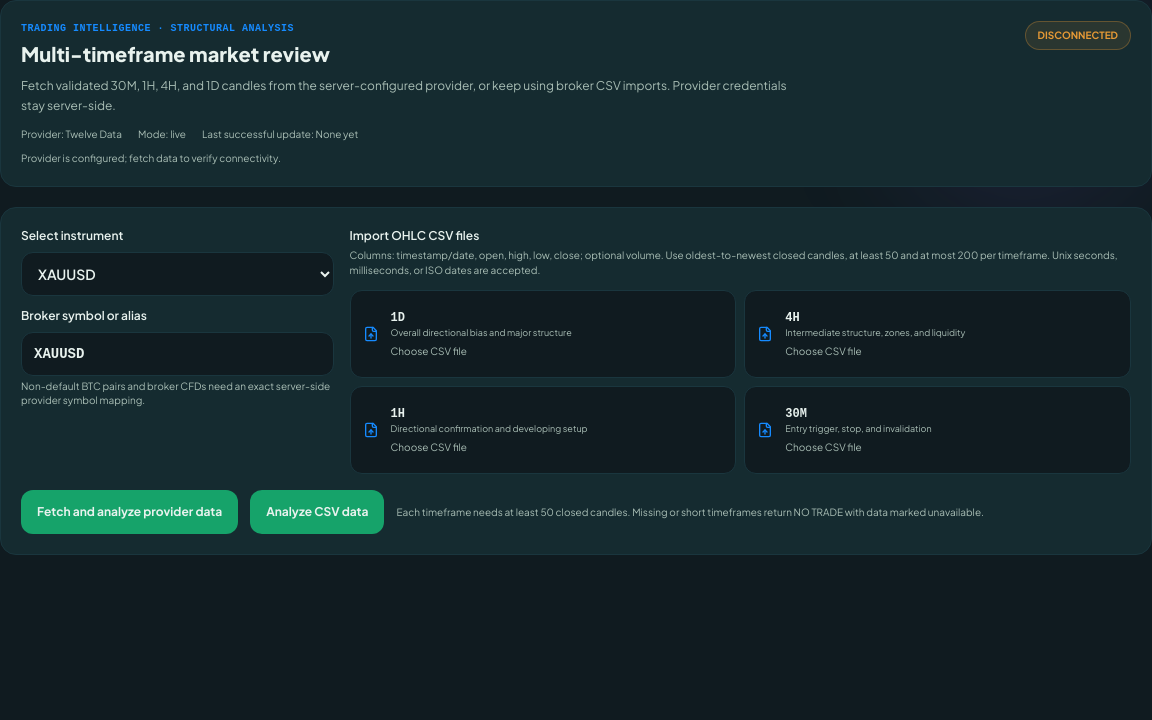
Scenario: TradingPage › uses the protected provider-analysis request and displays real source metadata
The image size is (1152, 720).
Click the button with test id "button-analyze-provider": (130, 512) [21, 490, 238, 534]
(page scrolled)
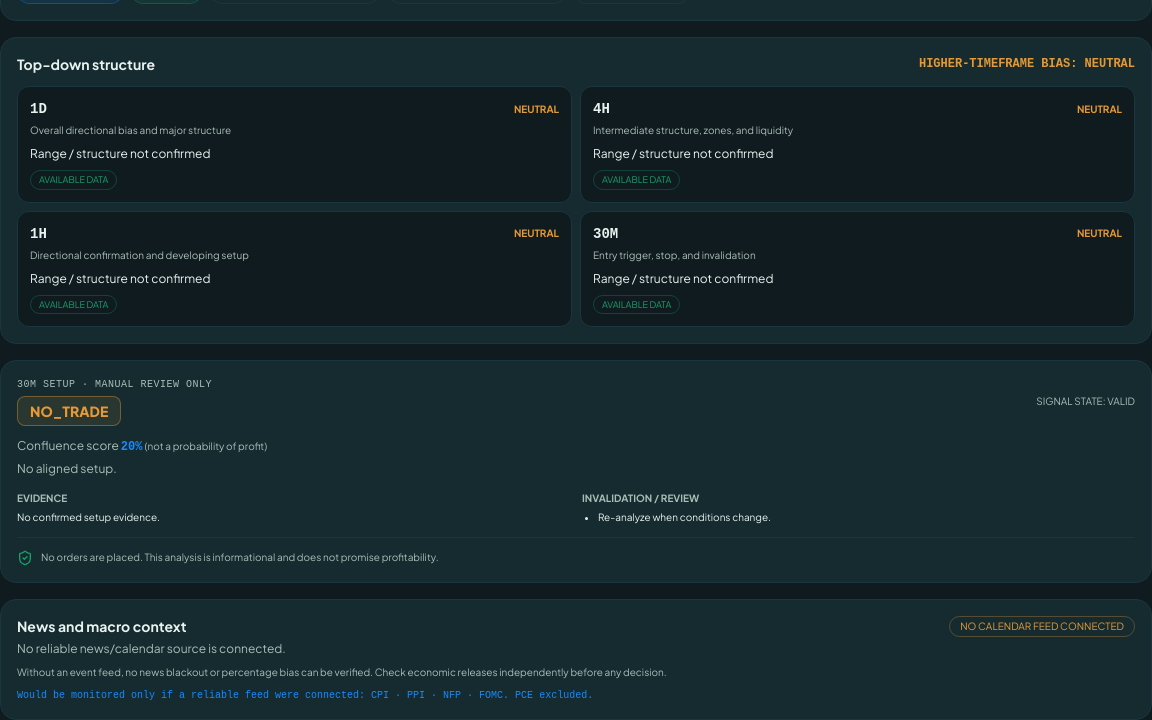
Result: the text with test id "status-trading-decision" reads "NO_TRADE" at [30, 402, 108, 420]
